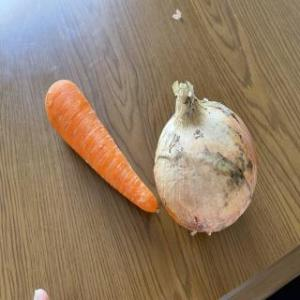carrot: (45, 79, 161, 215)
onion: (154, 82, 258, 238)
